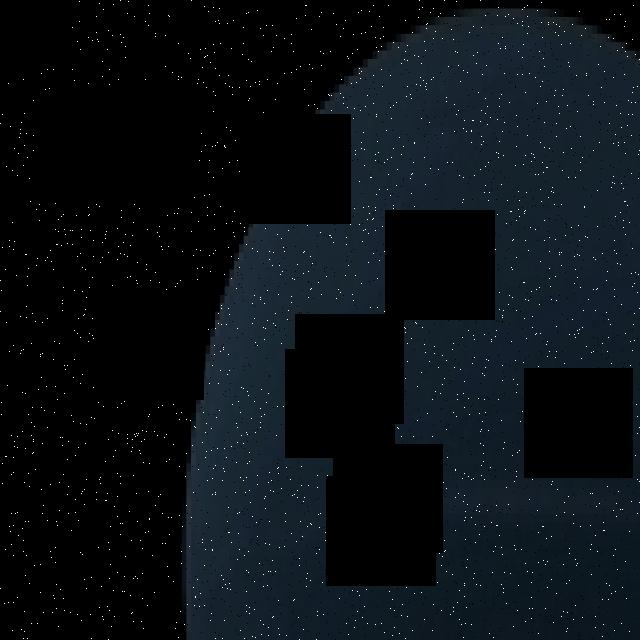Uranus: (182, 8, 640, 640)
